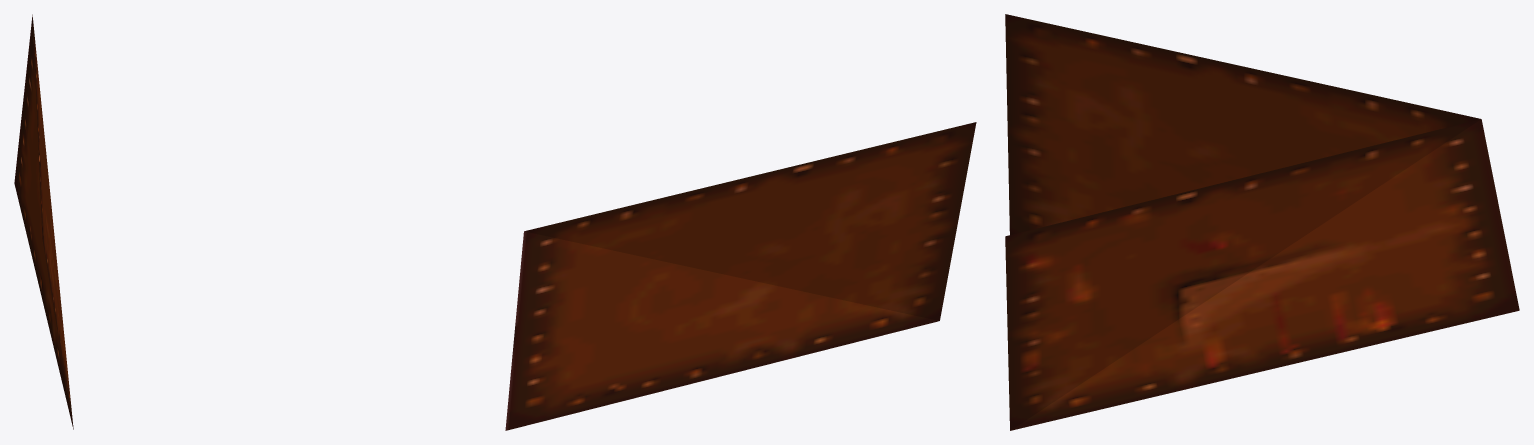
Rendered from Schiff_Bug2_1248.glb.
3 renders of one model, left to right at view 1: azimuth 30°, elevation 25°; view 2: azimuth 150°, elevation 25°; view 3: azimuth 270°, elevation 25°, orthographic. The views are drawn at different scales.
Parts seen in each view (by area): view 1: pPlaneShape9; view 2: pPlaneShape9; view 3: pPlaneShape30, pPlaneShape9.
Boxes of the visible parts, x1=… form: pPlaneShape9: x1=14, y1=14, x2=73, y2=429; pPlaneShape9: x1=505, y1=122, x2=976, y2=430; pPlaneShape30: x1=1005, y1=119, x2=1519, y2=430; pPlaneShape9: x1=1005, y1=14, x2=1480, y2=234.
Bounding box in the file's own units: 1.25 × 0.5732 × 1.23.
Materials: 2 (2 with a texture image).
